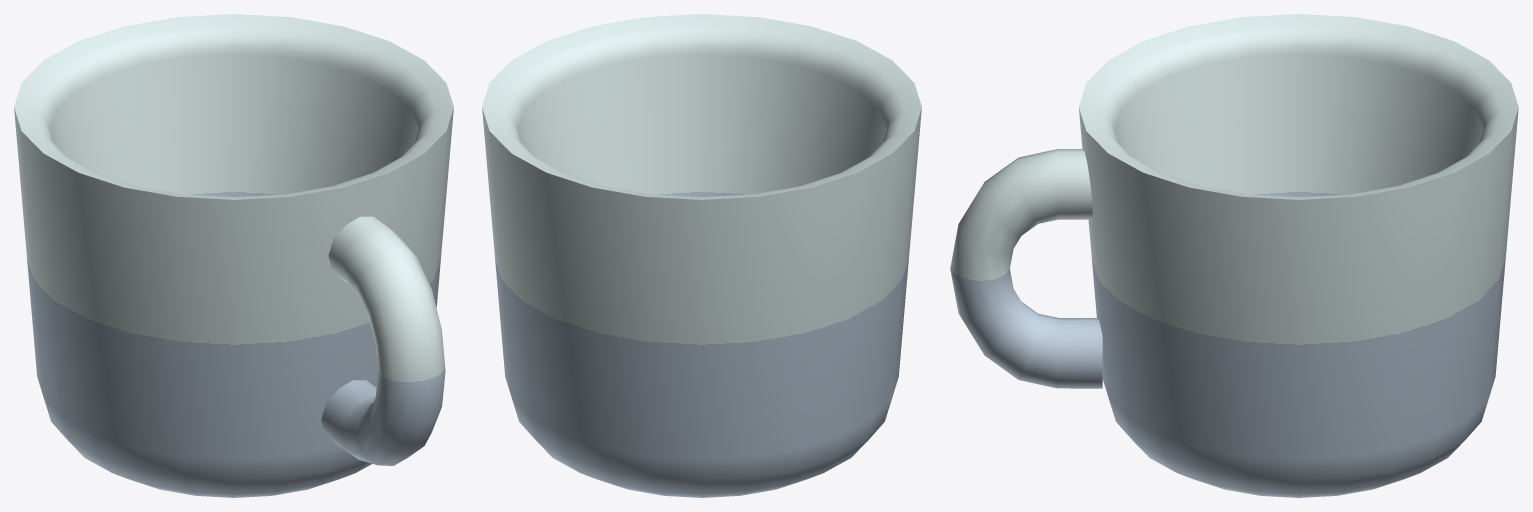
Rendered from taza.fbx.
3 views of the same model, side by side, from view 1: azimuth 30°, elevation 25°; view 2: azimuth 150°, elevation 25°; view 3: azimuth 270°, elevation 25° (orthographic).
Parts seen in each view (by area): view 1: taza; view 2: taza; view 3: taza.
Boxes of the visible parts, x1,y1,x2,y2 form: taza: (14, 14, 453, 497); taza: (482, 14, 921, 497); taza: (950, 14, 1518, 497).
Size of the model in its own units: 28.48 by 23.81 by 36.8.
